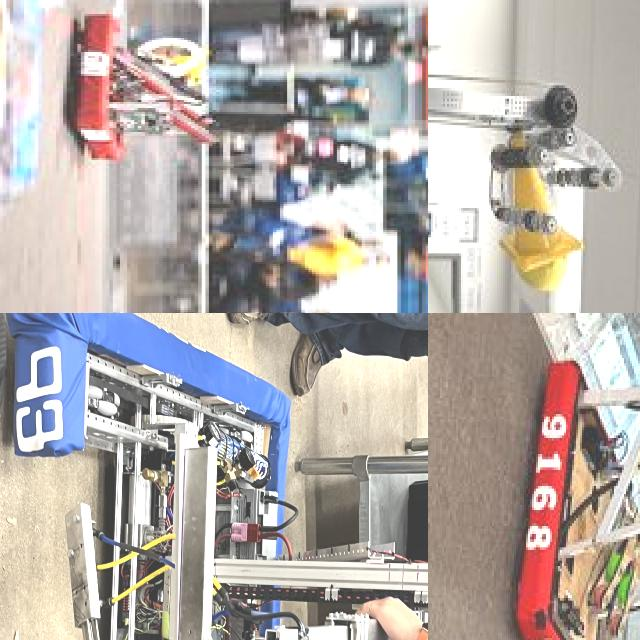FRC-Robots: (0, 313, 428, 640), (428, 0, 640, 313), (496, 323, 640, 640), (59, 3, 222, 180)
